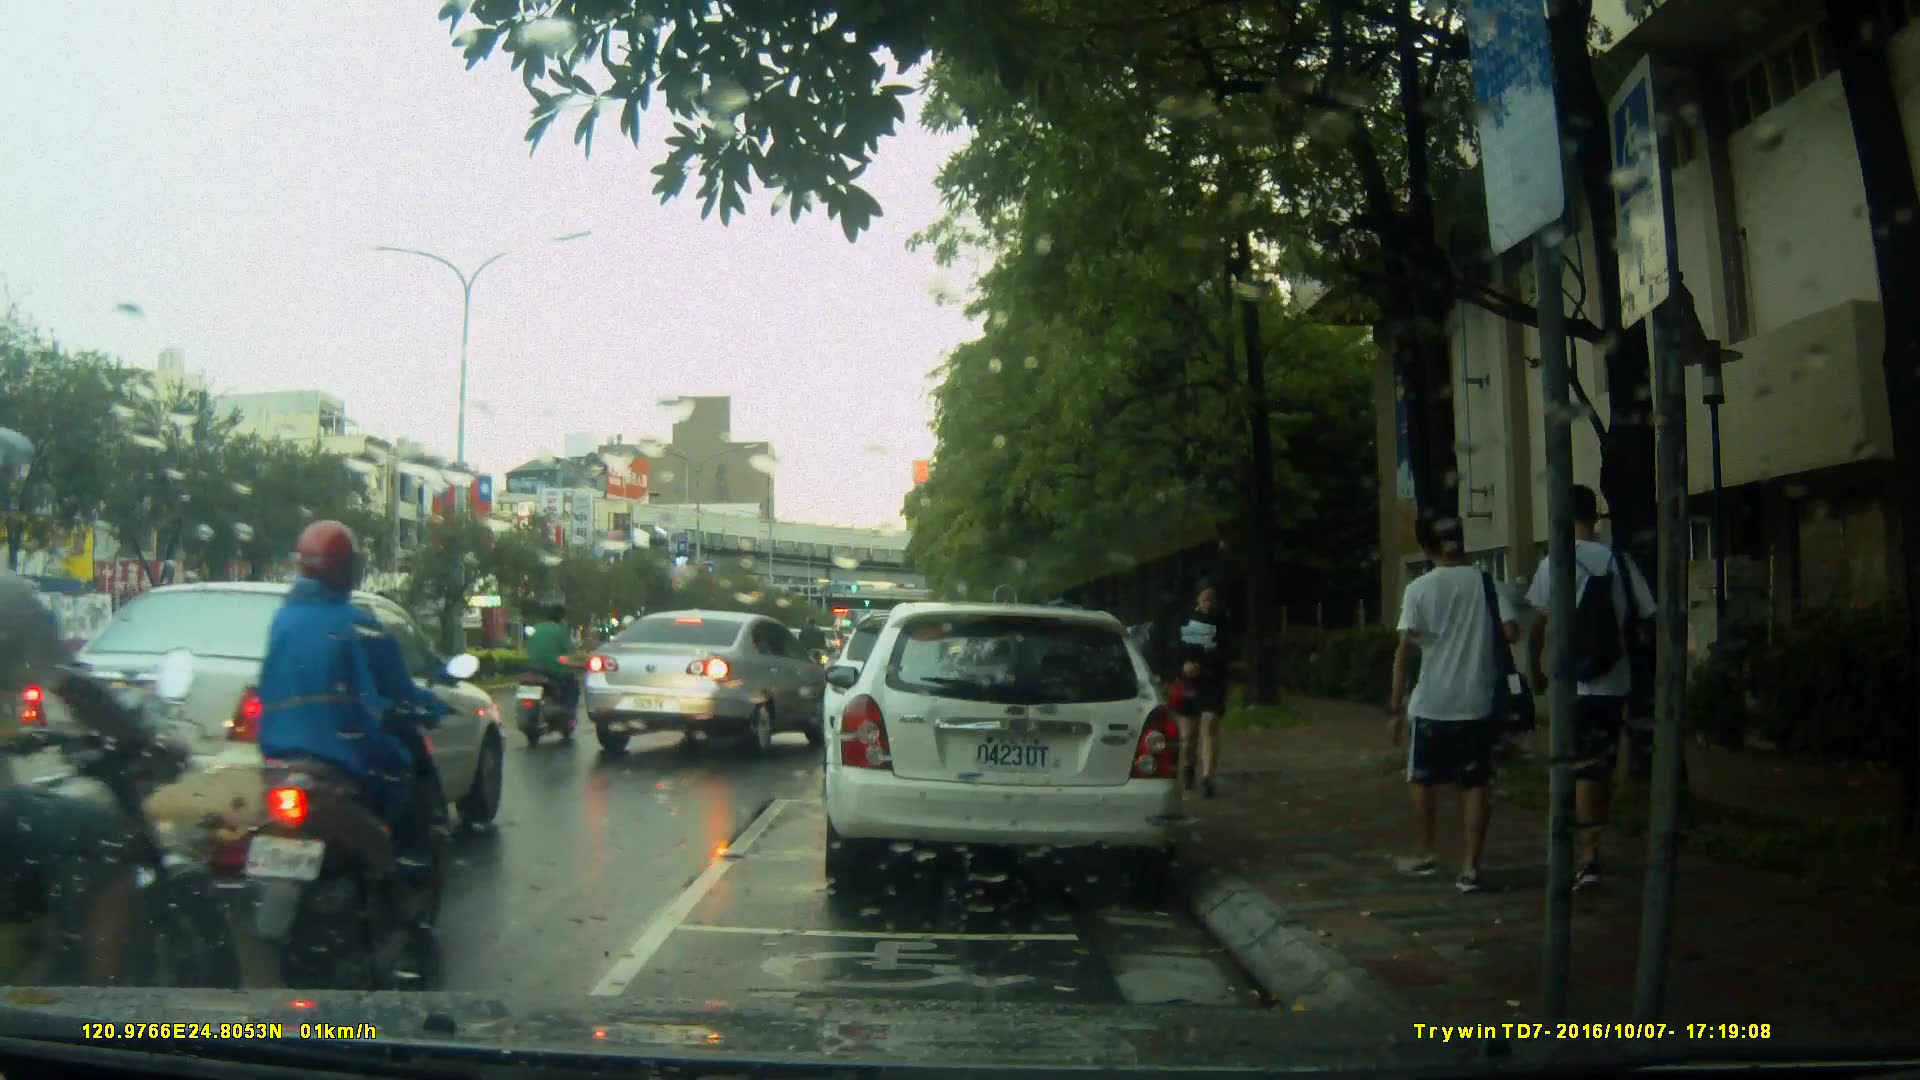pedestrian: (1373, 494, 1516, 900), (1528, 467, 1658, 906), (1162, 566, 1249, 807), (1122, 604, 1157, 732)
rider: (1, 428, 229, 1070), (248, 518, 478, 975), (516, 592, 589, 743), (799, 612, 829, 710)
vehicle: (14, 580, 510, 874), (820, 602, 1188, 898), (583, 609, 835, 760)
